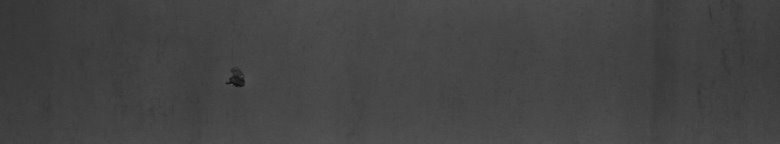fi: (224, 64, 252, 96)
